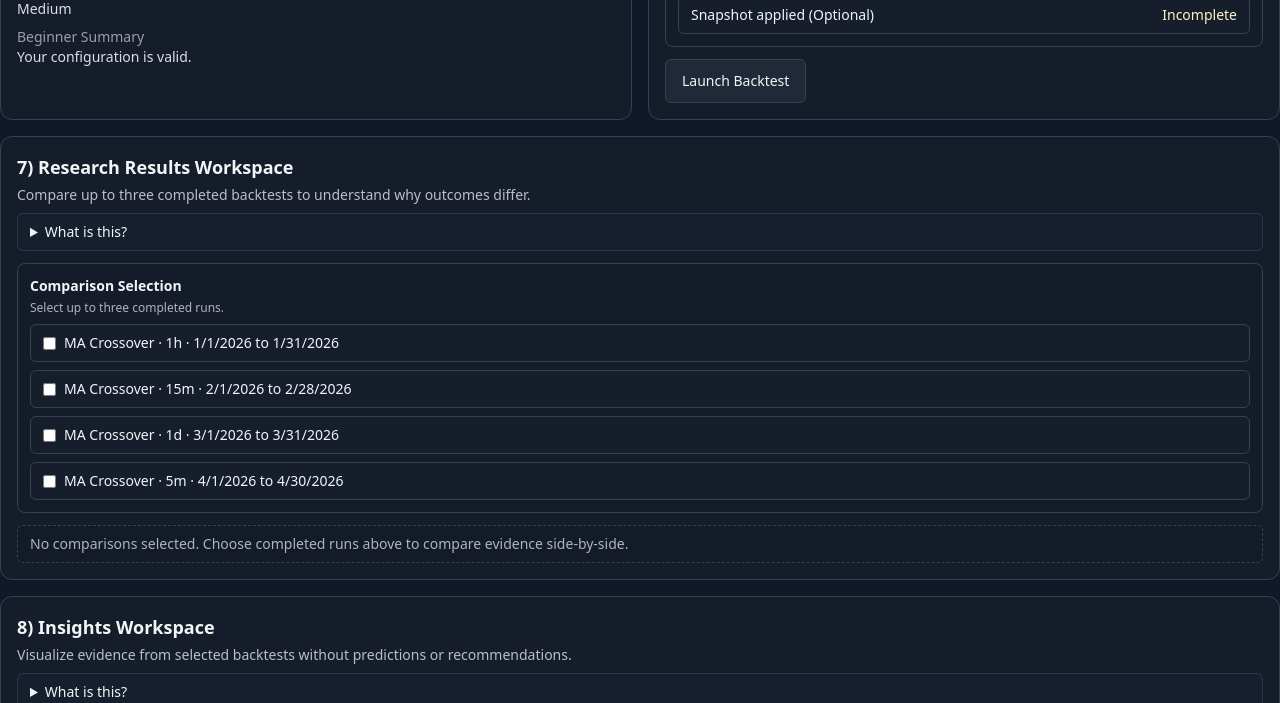
Scenario: StrategyLabPage Prompt 4.2 › renders equity curve comparison and missing curve state
This screenshot has width=1280, height=703.
(page scrolled)
Click the checkbox named "Select comparison run bt-1" at (50, 344), box [43,337,56,350]
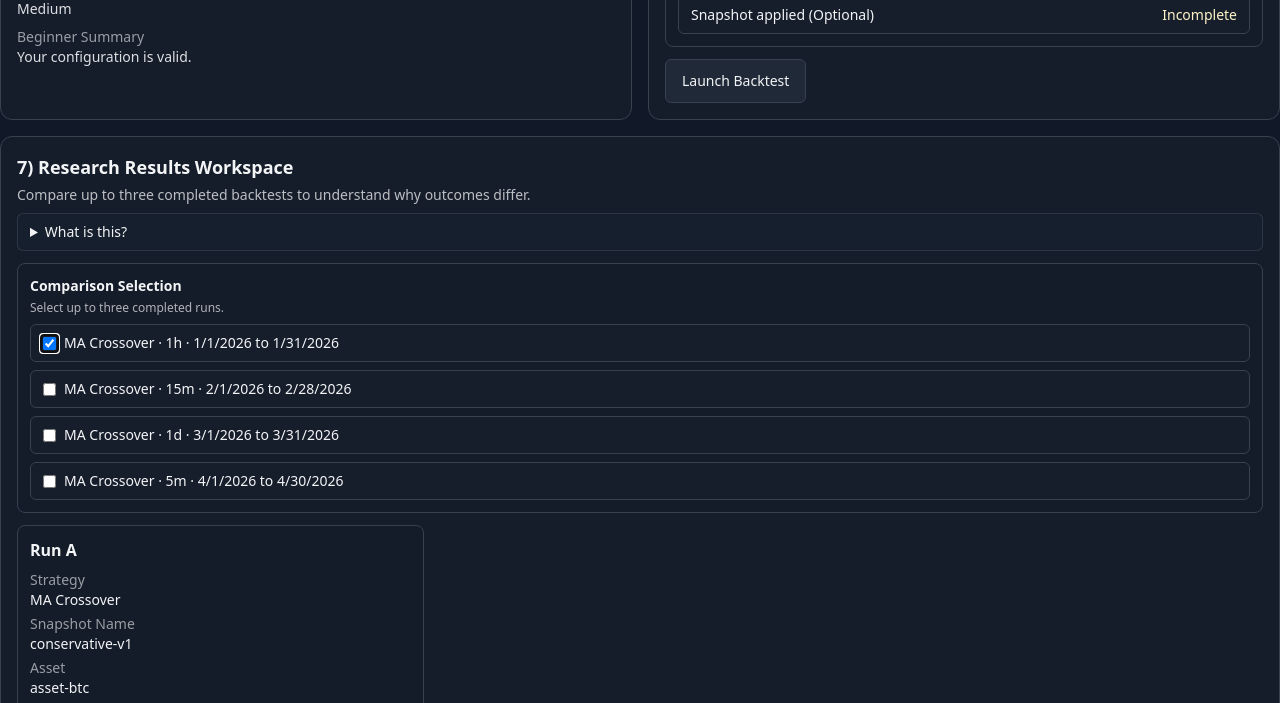
Click the checkbox named "Select comparison run bt-3" at (50, 436), box [43,429,56,442]
(page scrolled)
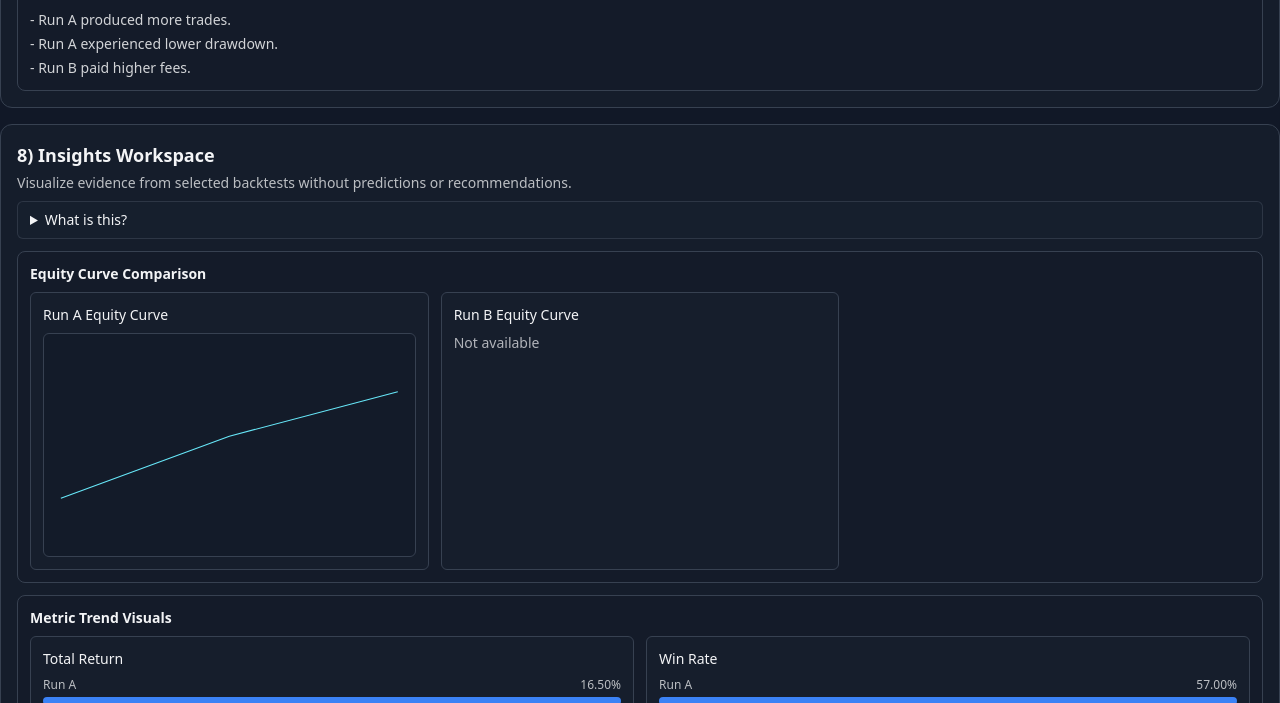
expect the element with test id "equity-curve-bt-1" is shown: met, box [43,333,416,557]
expect the text with test id "equity-curve-missing-bt-3" reads "Not available": met, box [454,333,540,352]
